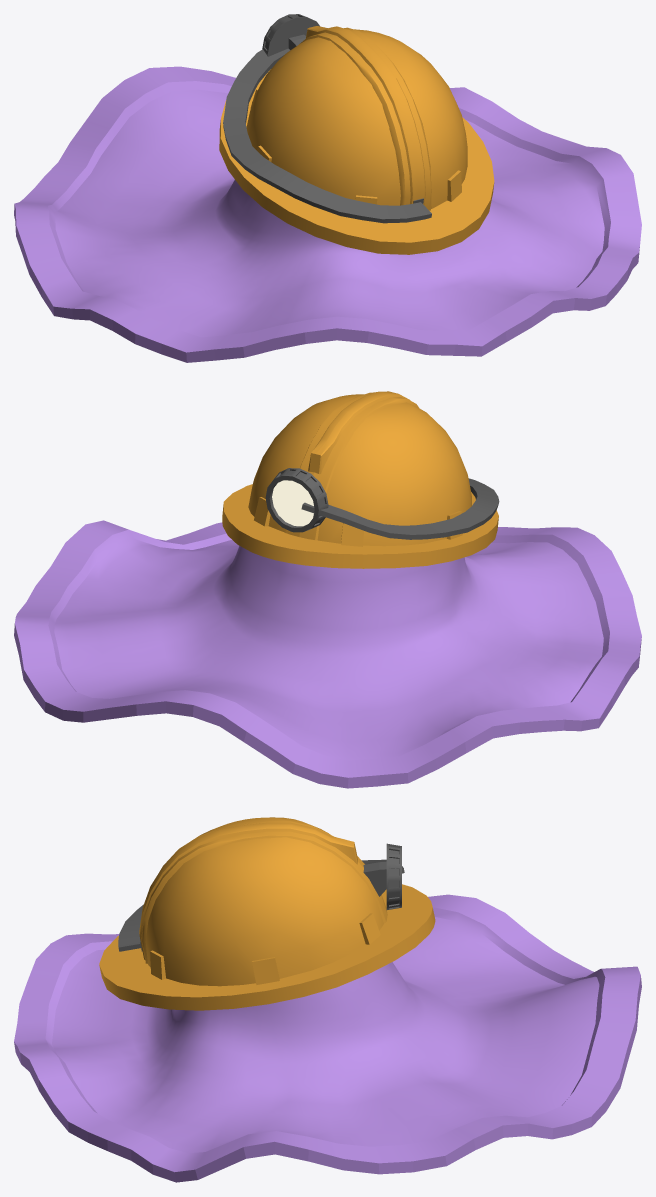
The model's file is Blobby_Guy.glb.
3 views of the same model, one above another, from view 1: azimuth 30°, elevation 25°; view 2: azimuth 150°, elevation 25°; view 3: azimuth 270°, elevation 25° (orthographic).
Parts seen in each view (by area): view 1: Sphere.002, Sphere.001, Plane.004, Plane, Plane.001, Cylinder; view 2: Sphere.002, Sphere.001, Plane.004, Cylinder, Plane, Plane.001; view 3: Sphere.002, Sphere.001, Plane, Plane.001, Cylinder, Plane.004, Cube.001.
Boxes of the visible parts, <box> form: Sphere.002: <box>14,66,641,362</box>; Sphere.001: <box>219,29,494,254</box>; Plane.004: <box>223,48,431,223</box>; Plane: <box>300,27,431,210</box>; Plane.001: <box>305,26,425,204</box>; Cylinder: <box>262,14,319,67</box>; Sphere.002: <box>14,520,641,788</box>; Sphere.001: <box>222,394,498,568</box>; Plane.004: <box>301,478,499,539</box>; Cylinder: <box>265,468,328,532</box>; Plane: <box>284,392,418,540</box>; Plane.001: <box>308,391,410,474</box>; Sphere.002: <box>14,894,641,1182</box>; Sphere.001: <box>99,817,435,1010</box>; Plane: <box>141,821,387,963</box>; Plane.001: <box>139,822,357,959</box>; Cylinder: <box>386,843,401,909</box>; Plane.004: <box>118,859,404,951</box>; Cube.001: <box>363,861,386,896</box>.
Bounding box in the file's own units: 0.7733 × 0.3257 × 0.7706.
